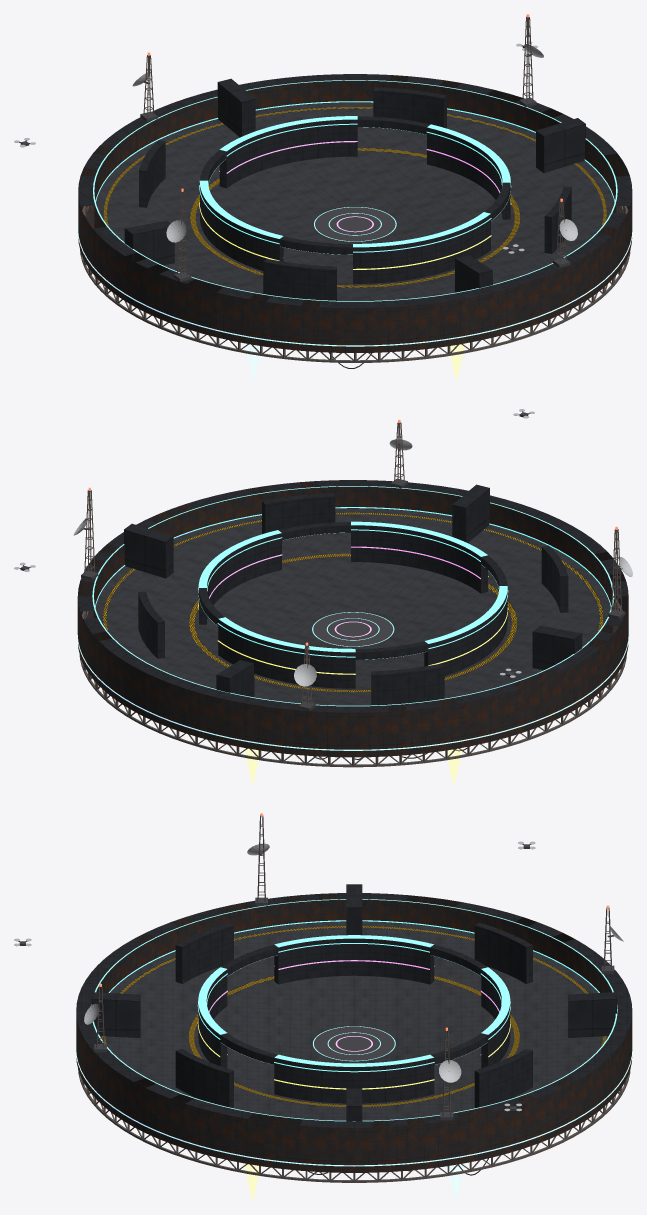
File: sky_arena.glb
The picture shows the model from 3 angles, top to bottom: view 1: azimuth 30°, elevation 25°; view 2: azimuth 150°, elevation 25°; view 3: azimuth 270°, elevation 25°; orthographic projection.
Visible parts, largest first — view 1: Deck, Rim, PurpleWall, RedBlueWalls, Neon, Truss, Base, Antenna_2, Antenna_0, Antenna_3, Antenna_1; view 2: Deck, Rim, PurpleWall, RedBlueWalls, Neon, Truss, Base, Antenna_2, Antenna_1, Antenna_0, Antenna_3; view 3: Deck, Rim, PurpleWall, RedBlueWalls, Neon, Truss, Base, Antenna_0, Antenna_2, Antenna_3.
Part boxes in pixels (x1,y1,x2,y2): Deck: (78,102,632,352); Rim: (78,74,632,352); PurpleWall: (200,116,510,283); RedBlueWalls: (124,78,585,300); Neon: (77,80,632,346); Truss: (80,205,630,362); Base: (313,207,396,241); Antenna_2: (166,191,191,281); Antenna_0: (519,16,543,107); Antenna_3: (553,201,577,267); Antenna_1: (132,55,157,121); Deck: (77,508,628,757); Rim: (77,480,628,757); PurpleWall: (199,522,507,688); RedBlueWalls: (124,484,582,705); Neon: (77,486,629,750); Truss: (79,596,626,767); Base: (312,612,394,646); Antenna_2: (608,529,632,619); Antenna_1: (294,645,316,711); Antenna_0: (73,490,98,580); Antenna_3: (389,422,412,488); Deck: (76,921,632,1172); Rim: (76,893,632,1172); PurpleWall: (198,938,510,1103); RedBlueWalls: (91,884,616,1121); Neon: (75,899,632,1166); Truss: (78,1069,630,1182); Base: (312,1026,395,1061); Antenna_0: (439,1030,461,1120); Antenna_2: (247,815,269,905); Antenna_3: (84,986,106,1052).
Size of what is drawn, in the model's own units: 55.34 by 21.19 by 57.88.
15 materials, 4 textured.
